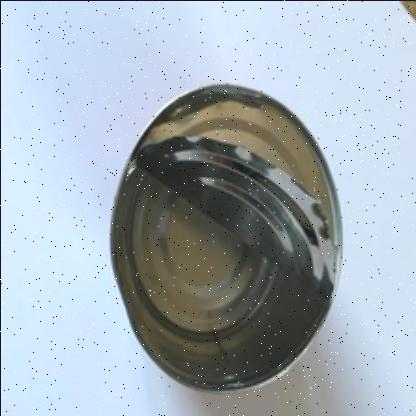Can: (109, 81, 339, 390)
